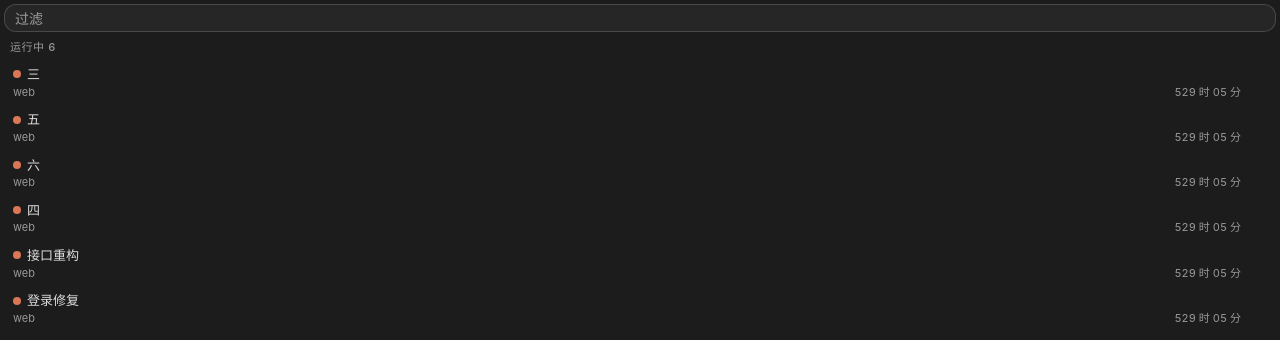
SessionsSection › 会话多了才出现过滤框，Escape 清空
Expected: the text "接口重构" is shown, [27,247,79,263]
Type "登录" into the field labelled "过滤" at [640, 18], box [4,4,1276,32]
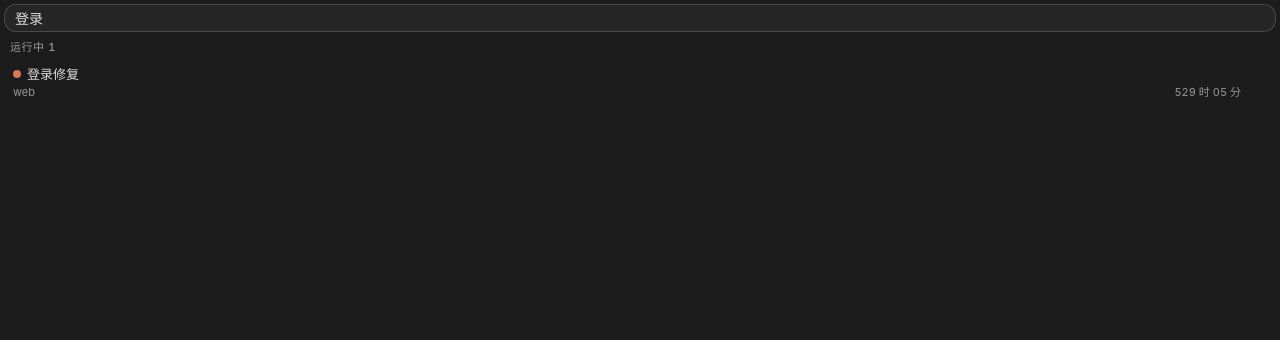
Now the button "接口重构" is gone
Press Escape in the field named "过滤", box [4,4,1276,32]
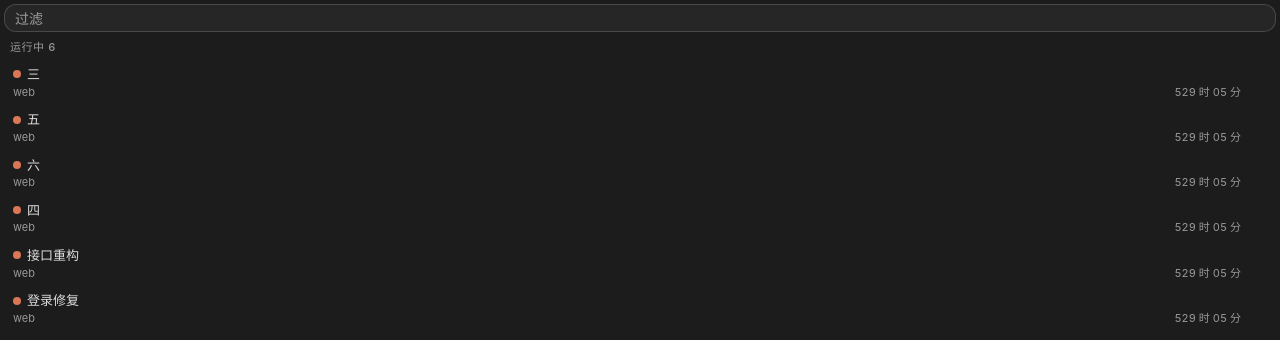
Now the text "接口重构" is shown, box [27,247,79,263]
